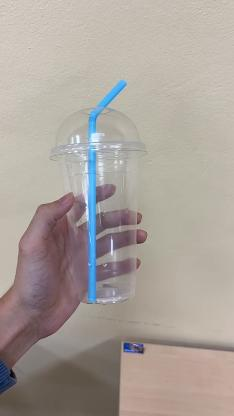Plastic Cup: (48, 106, 150, 304)
